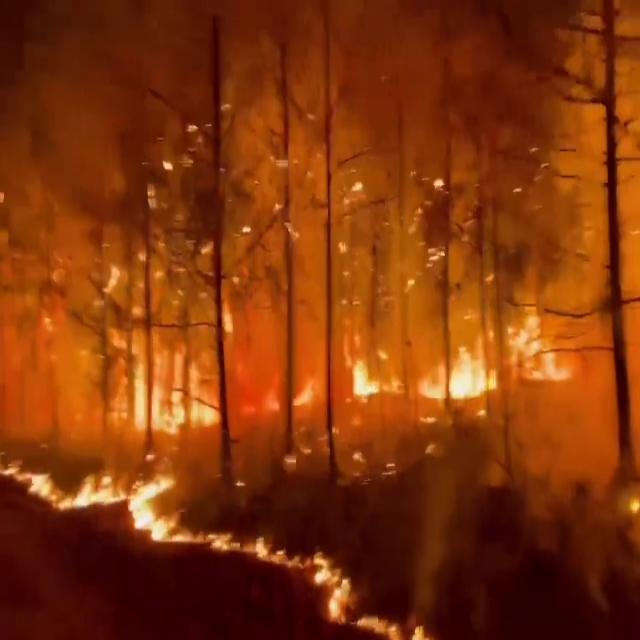Fire: (105, 292, 222, 446), (0, 442, 173, 540), (188, 518, 308, 577), (419, 335, 497, 416), (314, 550, 381, 640), (344, 344, 399, 408)
Smoke: (1, 0, 605, 404), (0, 0, 263, 408)
